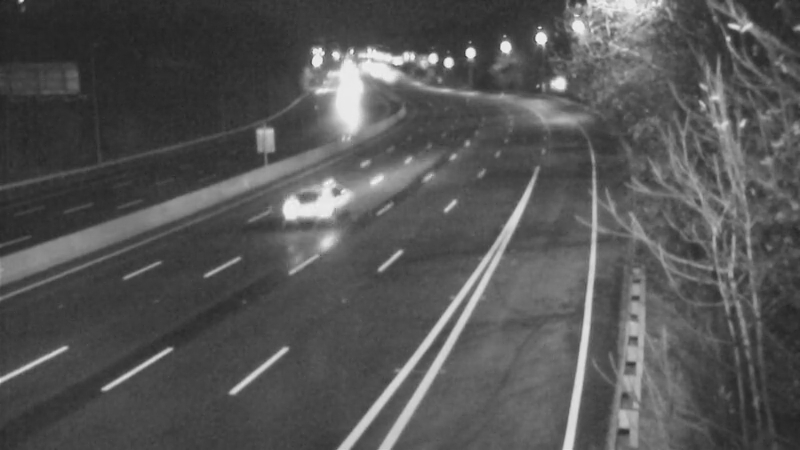vehicle: (278, 162, 358, 242)
